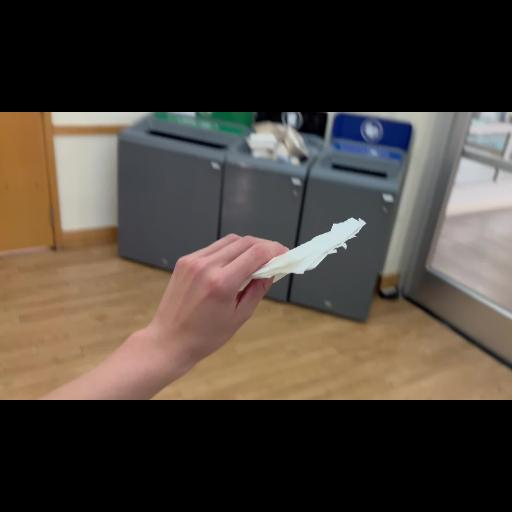napkin: (230, 215, 366, 277)
